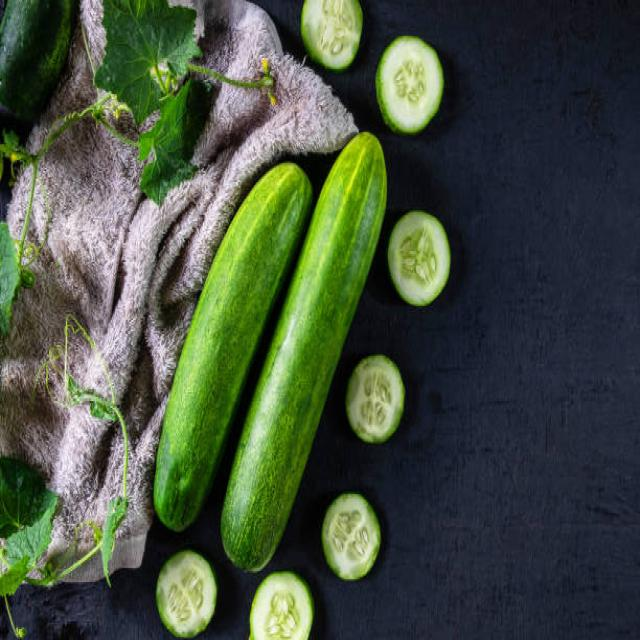cucumber: (222, 130, 387, 569), (154, 163, 314, 532)
